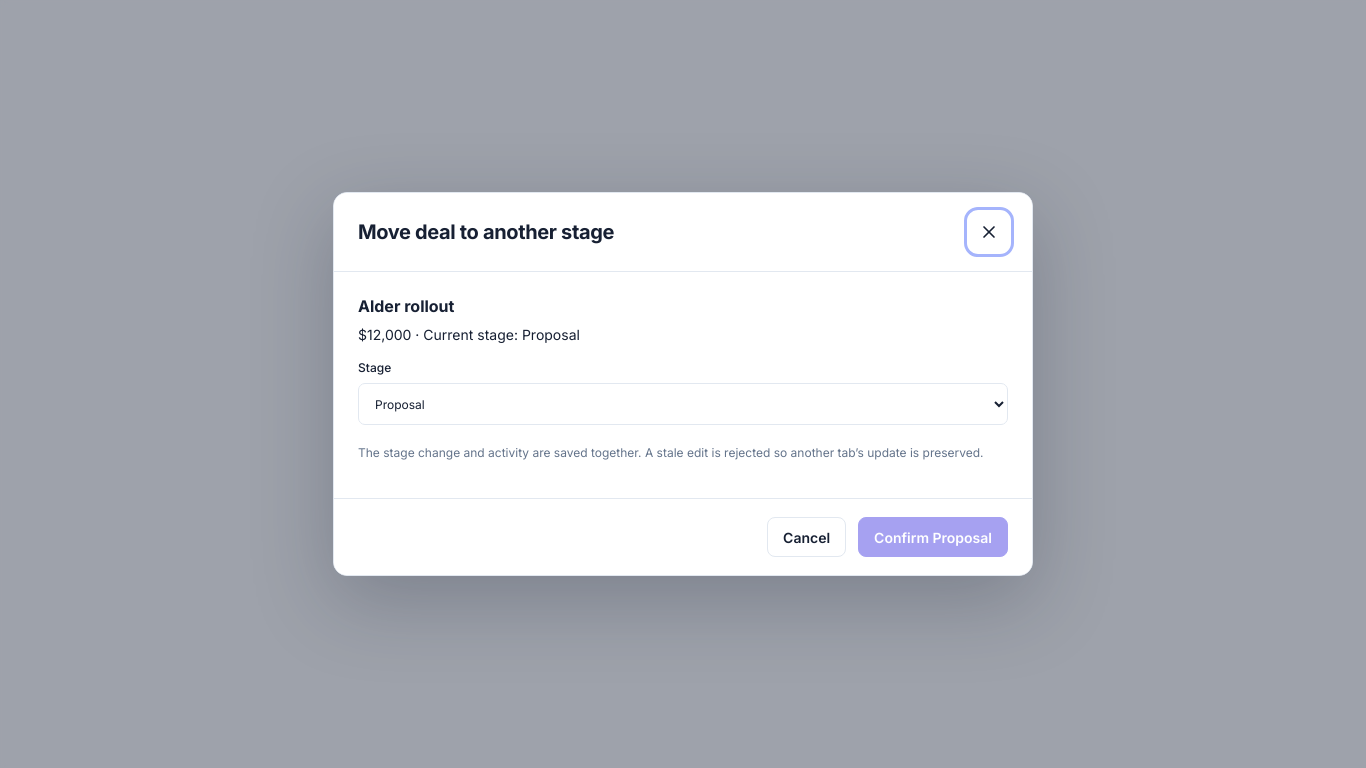
it: lost stage asks for a reason and won explains notification
This screenshot has width=1366, height=768.
Select "Lost" in the dropdown labelled "Stage" at (683, 404), box [358,383,1008,425]
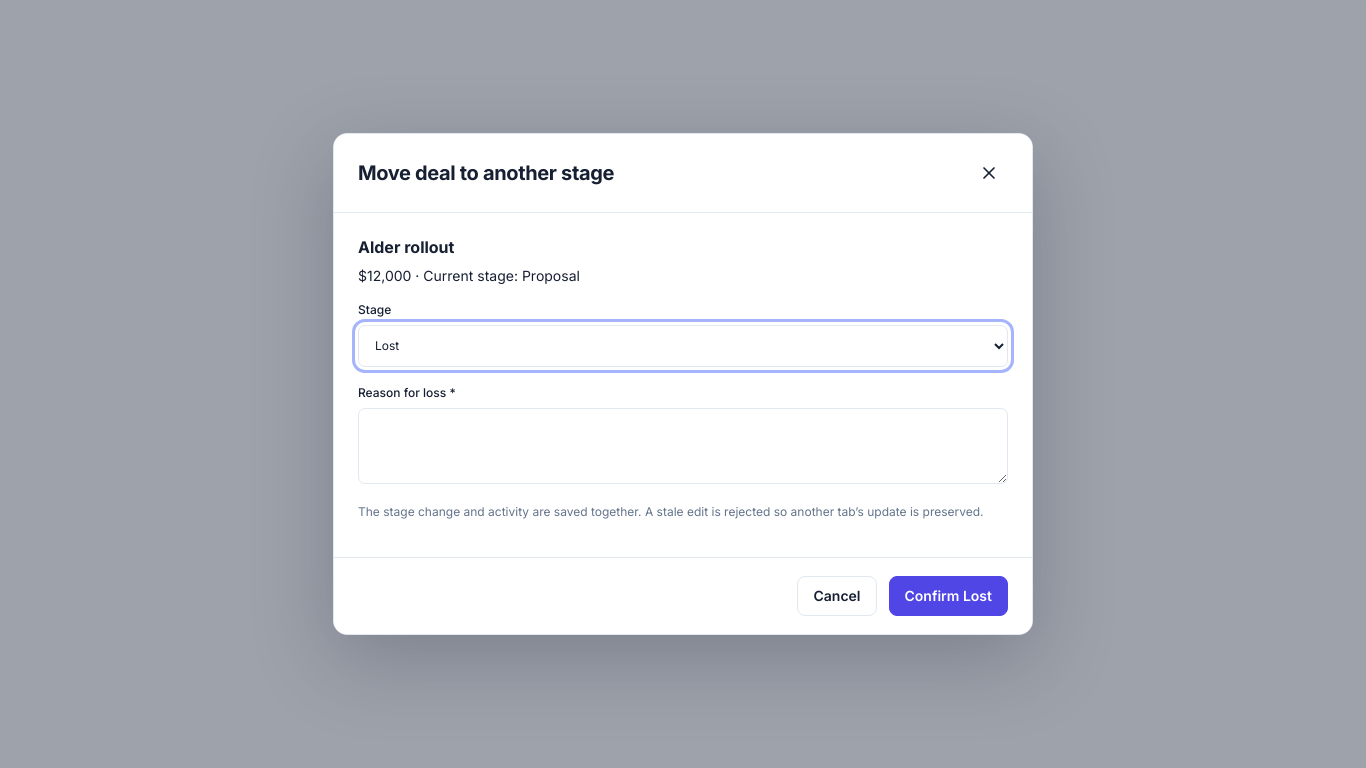
Select "Won" in the dropdown labelled "Stage" at (683, 346), box [358,325,1008,367]
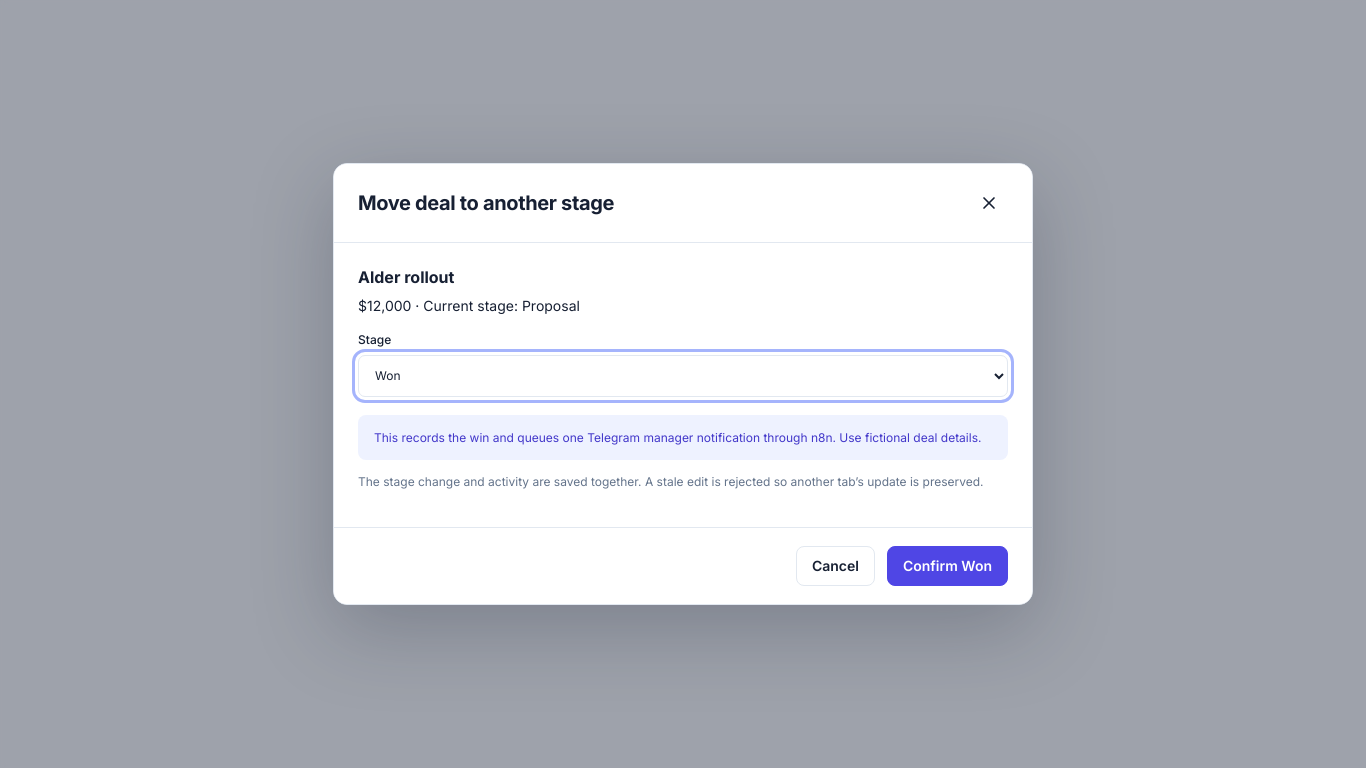
Check: the text "queues one Telegram" is shown, box [374,430,982,444]
